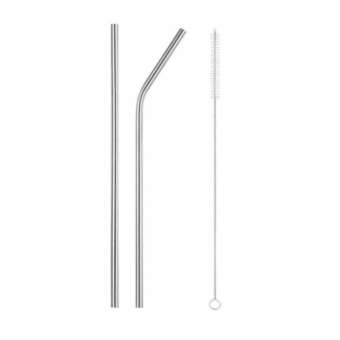Drinking Straw: (132, 27, 188, 310), (107, 21, 122, 310)
